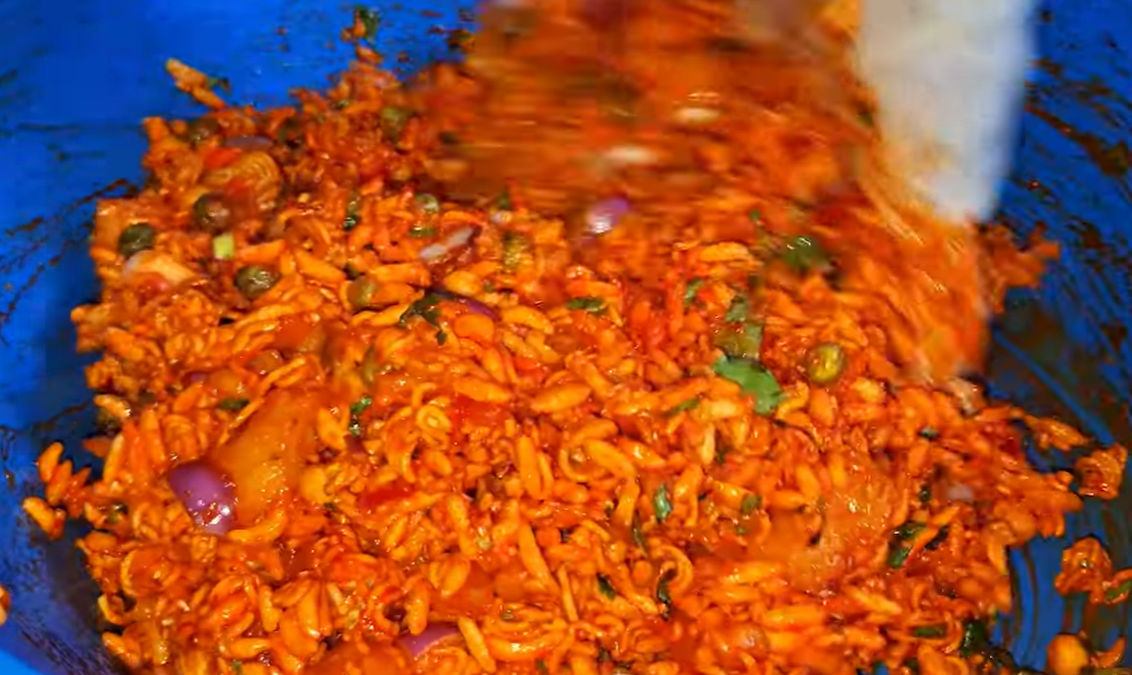chatpate: (45, 78, 1023, 655)
